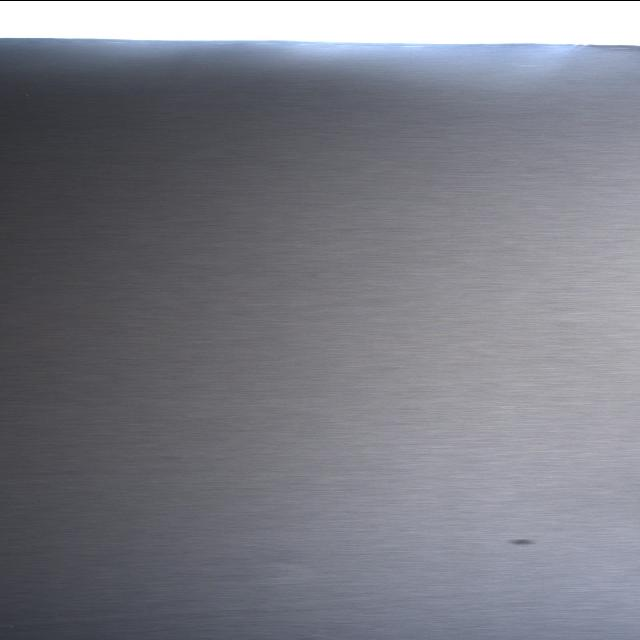crease: (33, 579, 554, 626)
